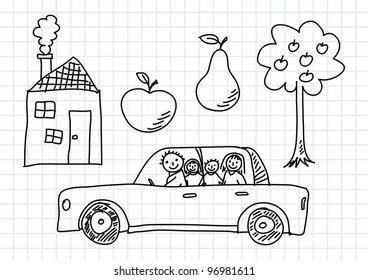building: (22, 50, 106, 168)
car: (55, 145, 314, 247)
fruit: (195, 31, 239, 114), (118, 72, 177, 133)
tree: (255, 20, 347, 168)
